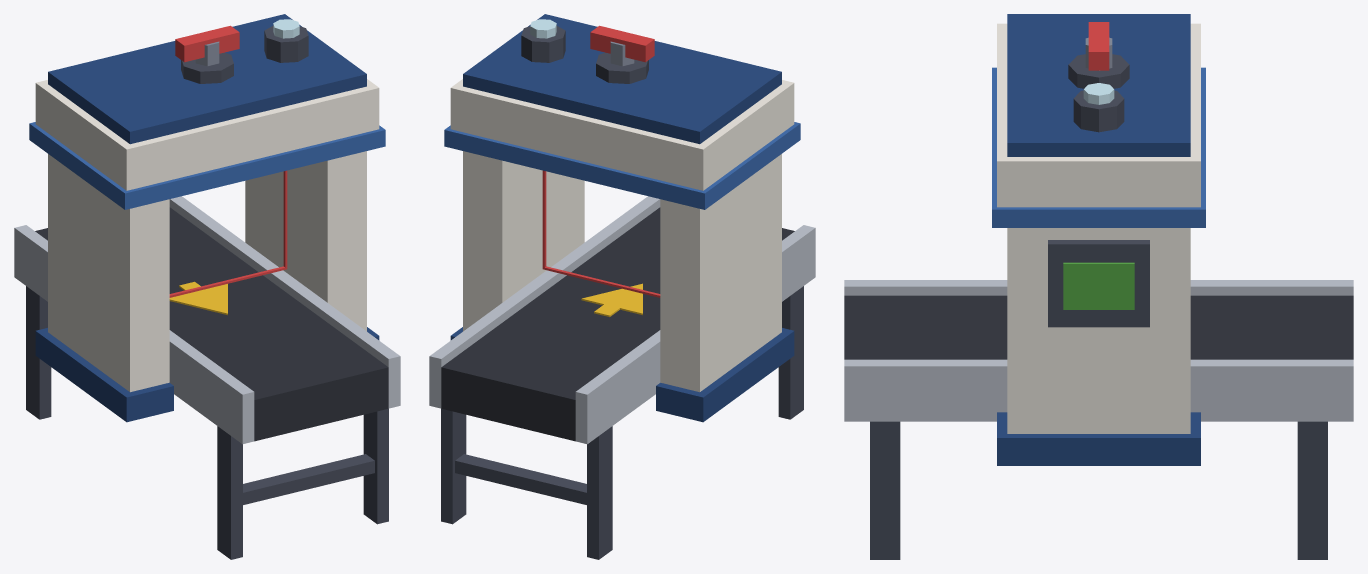
File: scanner.glb
3 views of the same model, side by side, from view 1: azimuth 30°, elevation 25°; view 2: azimuth 150°, elevation 25°; view 3: azimuth 270°, elevation 25° (orthographic). The views are drawn at different scales.
Parts seen in each view (by area): view 1: scanner, spin-up; view 2: scanner, spin-up; view 3: scanner, spin-up.
Part boxes in pixels (x1=…): scanner: x1=14, y1=14, x2=400, y2=559; spin-up: x1=175, y1=25, x2=239, y2=66; scanner: x1=429, y1=14, x2=815, y2=559; spin-up: x1=590, y1=25, x2=654, y2=66; scanner: x1=844, y1=14, x2=1353, y2=559; spin-up: x1=1085, y1=22, x2=1112, y2=70.
Bounding box in the file's own units: 0.66 × 1.04 × 1.
Materials: 3 (3 with a texture image).
